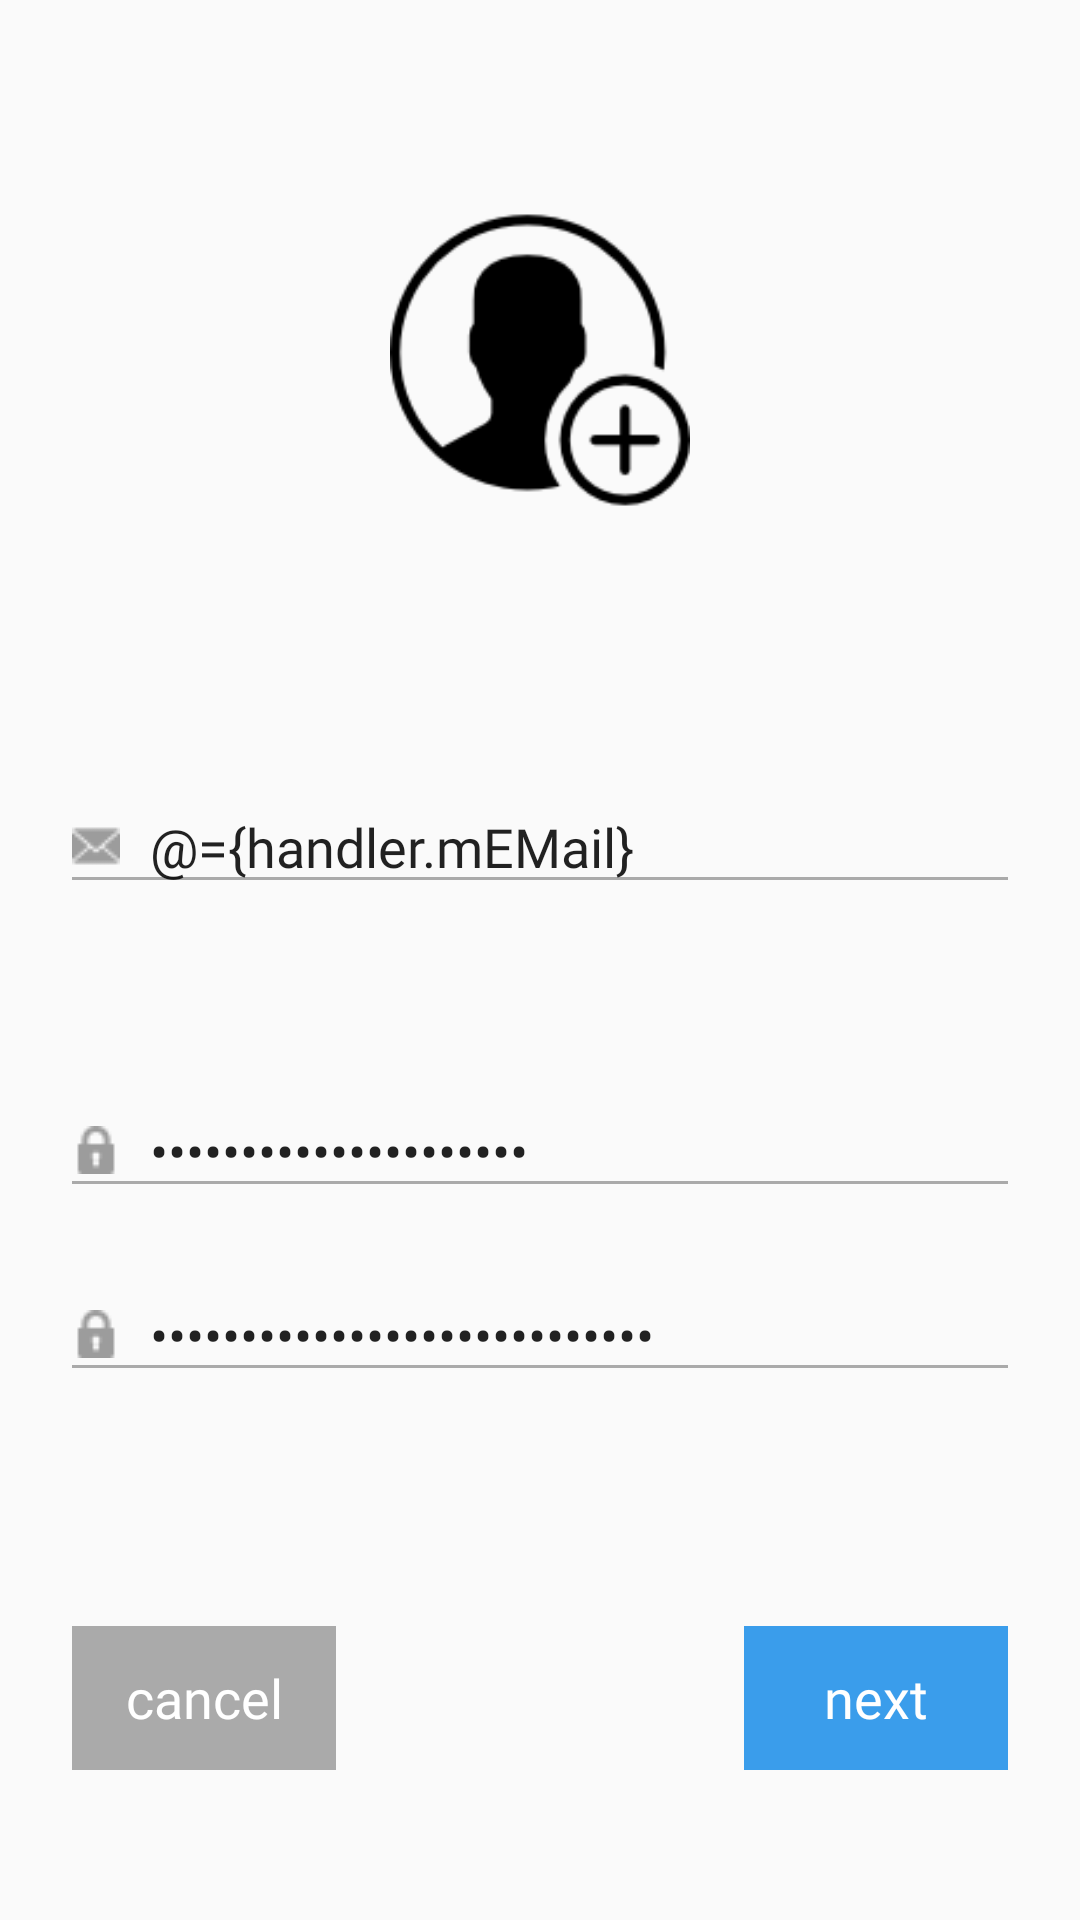

Icon click points for this 1080px×1920px phone screenshot, format (x=x, y=y):
user: (x=540, y=360)
